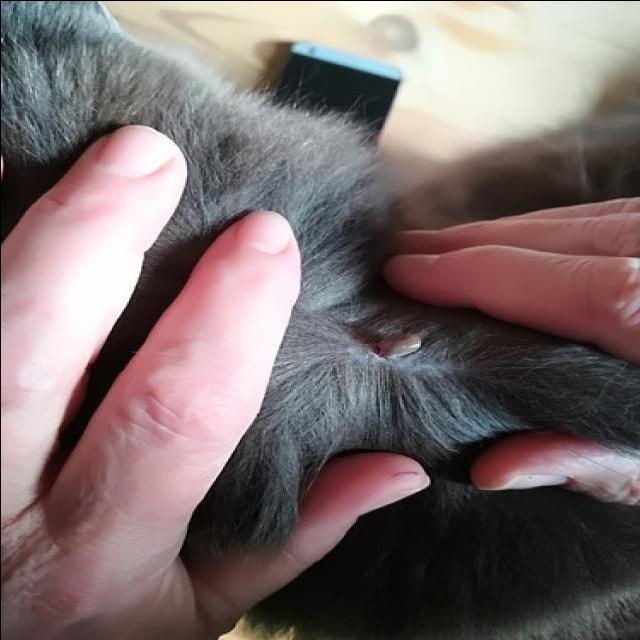Ixodes Ricinus-F-Fed: (345, 325, 425, 361)
